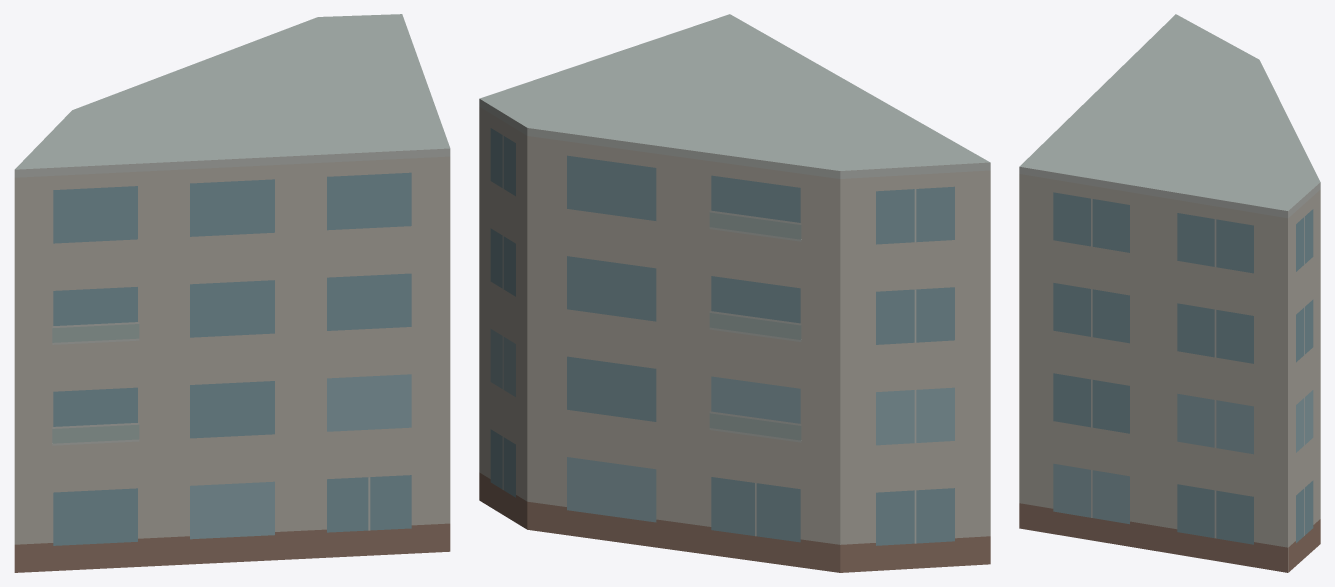
Rendered from survey-upis-32714538.glb.
3 views of the same model, side by side, from view 1: azimuth 30°, elevation 25°; view 2: azimuth 150°, elevation 25°; view 3: azimuth 270°, elevation 25° (orthographic). The views are drawn at different scales.
Visible parts, largest first — view 1: survey-upis-32714538.tmp; view 2: survey-upis-32714538.tmp; view 3: survey-upis-32714538.tmp.
Boxes of the visible parts, left/top/right/bottom form: survey-upis-32714538.tmp: left=14, top=14, right=450, bottom=572; survey-upis-32714538.tmp: left=479, top=14, right=990, bottom=572; survey-upis-32714538.tmp: left=1019, top=14, right=1320, bottom=572.
Size of the model in its own units: 14.27 by 12.2 by 9.22.
